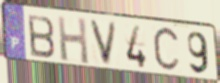4: (125, 24, 148, 70)
9: (186, 30, 210, 76)
B: (26, 13, 57, 60)
C: (151, 25, 182, 75)
H: (56, 15, 91, 67)
V: (87, 18, 119, 68)
